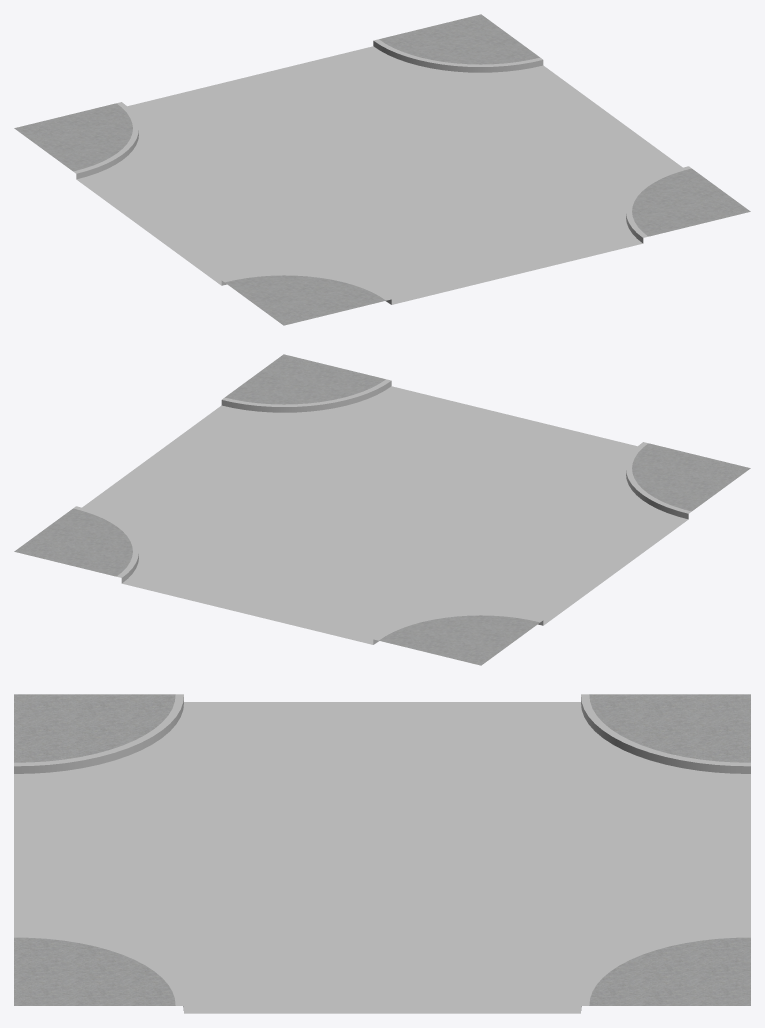
File: Road_Module01.fbx
3 views of the same model, one above another, from view 1: azimuth 30°, elevation 25°; view 2: azimuth 150°, elevation 25°; view 3: azimuth 270°, elevation 25° (orthographic). The views are drawn at different scales.
Parts seen in each view (by area): view 1: Road_Module01; view 2: Road_Module01; view 3: Road_Module01.
Part boxes in pixels (left/top/right/bottom): Road_Module01: left=14, top=14, right=750, bottom=325; Road_Module01: left=14, top=354, right=750, bottom=665; Road_Module01: left=14, top=694, right=750, bottom=1013.
Bounding box in the file's own units: 13 × 0.15 × 13.
